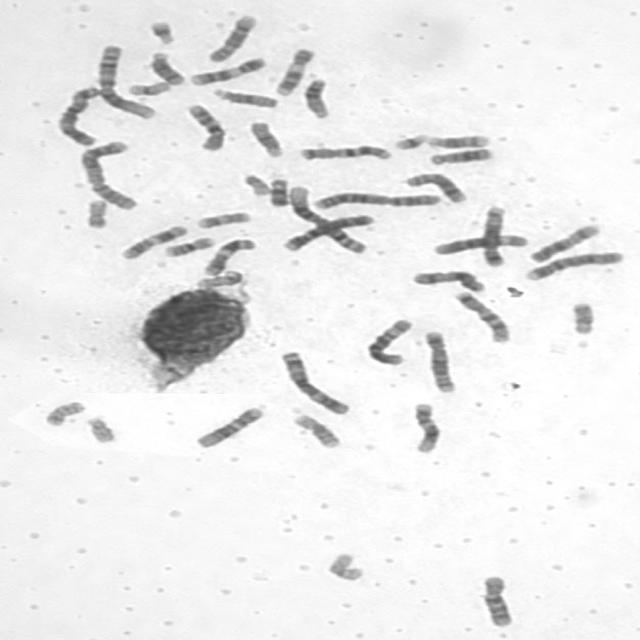A1: (283, 182, 370, 255), (92, 42, 158, 121)
A2: (75, 138, 140, 212), (306, 189, 442, 211)
A3: (275, 348, 352, 416), (52, 84, 103, 148)
B4: (278, 212, 377, 253), (520, 249, 626, 282)
B5: (419, 328, 458, 394), (478, 203, 509, 269)
C10: (182, 101, 227, 153), (476, 572, 516, 629)
C11: (117, 222, 189, 262), (198, 236, 258, 278)
C12: (191, 404, 266, 450), (408, 400, 443, 454)
C6: (361, 316, 415, 367), (430, 232, 530, 257)
C7: (450, 288, 512, 344), (294, 142, 394, 162)
C8: (203, 12, 260, 64), (401, 170, 469, 205)
C9: (185, 55, 269, 87), (271, 45, 317, 97)
D13: (299, 76, 332, 120), (424, 146, 495, 166)
D14: (145, 49, 187, 86), (422, 132, 492, 150)
D15: (209, 86, 280, 110), (250, 120, 286, 159)
E16: (288, 412, 342, 449), (159, 234, 217, 258)
E17: (191, 208, 253, 230), (196, 269, 244, 288)
E18: (566, 300, 597, 336), (265, 175, 290, 208)
F19: (322, 550, 366, 582), (122, 79, 172, 97)
F20: (39, 398, 87, 427), (80, 196, 110, 230)
G21: (144, 17, 178, 46), (390, 130, 430, 152)
G22: (80, 413, 118, 444), (238, 171, 272, 197)
X: (525, 222, 602, 264), (407, 268, 487, 294)
